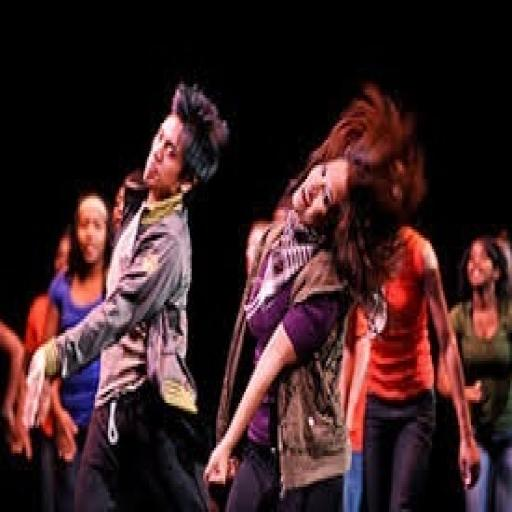dancing: (18, 78, 230, 510), (201, 78, 410, 510)
